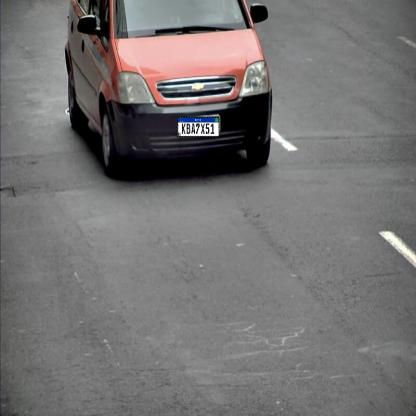PlacaM: (178, 116, 220, 138)
